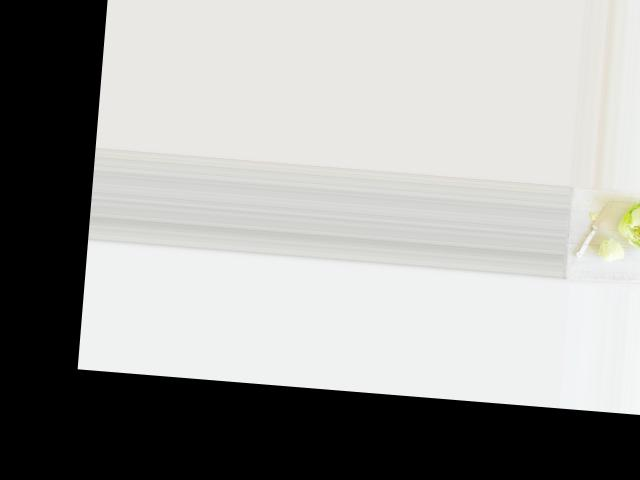lettuce: (622, 197, 640, 258)
